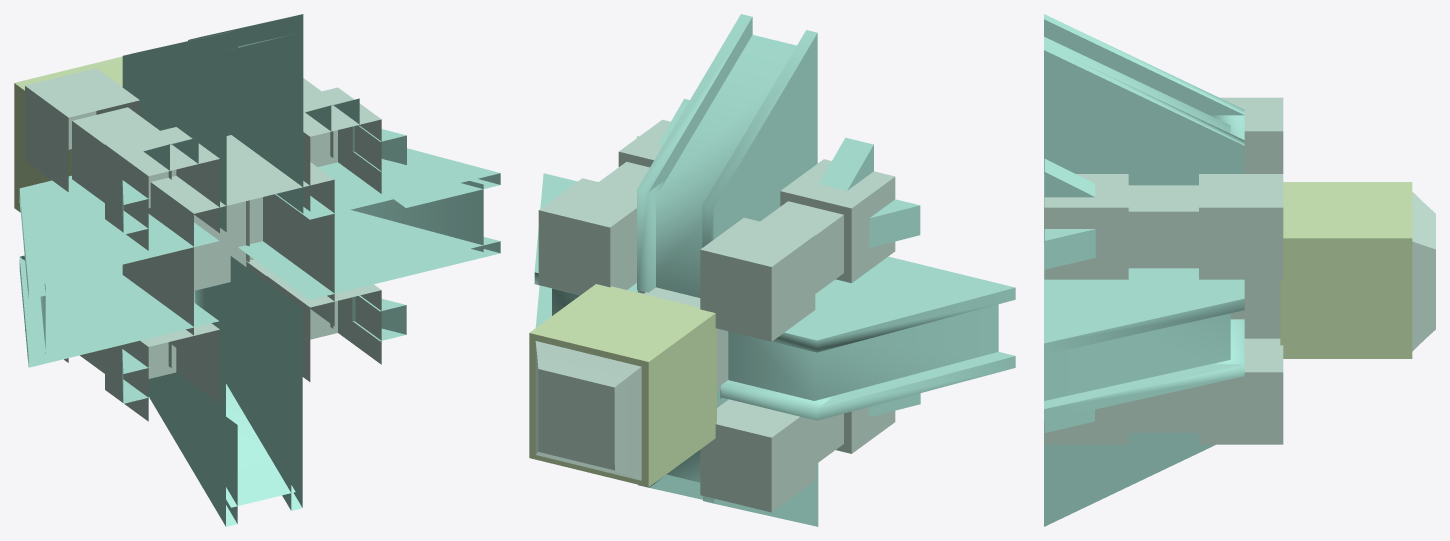
The picture shows the model from 3 angles, left to right: view 1: azimuth 30°, elevation 25°; view 2: azimuth 150°, elevation 25°; view 3: azimuth 270°, elevation 25°; orthographic projection. The views are drawn at different scales.
Visible parts, largest first — view 1: Object68; view 2: Object68; view 3: Object68.
Boxes of the visible parts, left/top/right/bottom form: Object68: left=14, top=14, right=500, bottom=526; Object68: left=529, top=14, right=1015, bottom=526; Object68: left=1044, top=14, right=1435, bottom=526.
Size of the model in its own units: 50135 by 50135 by 37300.
